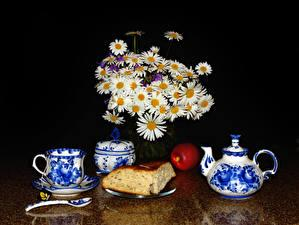chamomile: (139, 117, 164, 137), (181, 85, 200, 107), (111, 77, 131, 96), (146, 94, 165, 111), (166, 60, 184, 77), (166, 104, 185, 120), (168, 88, 185, 104), (143, 51, 161, 66), (125, 53, 142, 68), (197, 98, 215, 112), (112, 95, 131, 108), (154, 80, 173, 92), (111, 42, 128, 54), (197, 64, 211, 77), (98, 80, 111, 94), (127, 78, 141, 91), (96, 67, 111, 79), (131, 100, 142, 115), (155, 104, 168, 116), (133, 91, 145, 103), (166, 33, 184, 40), (105, 116, 123, 123), (121, 69, 133, 77), (151, 48, 161, 54)
